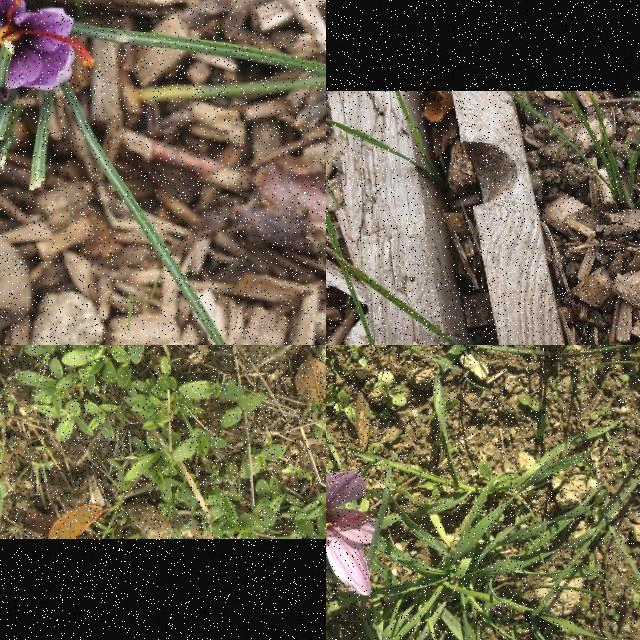flower: (0, 0, 96, 91), (326, 469, 376, 596)
